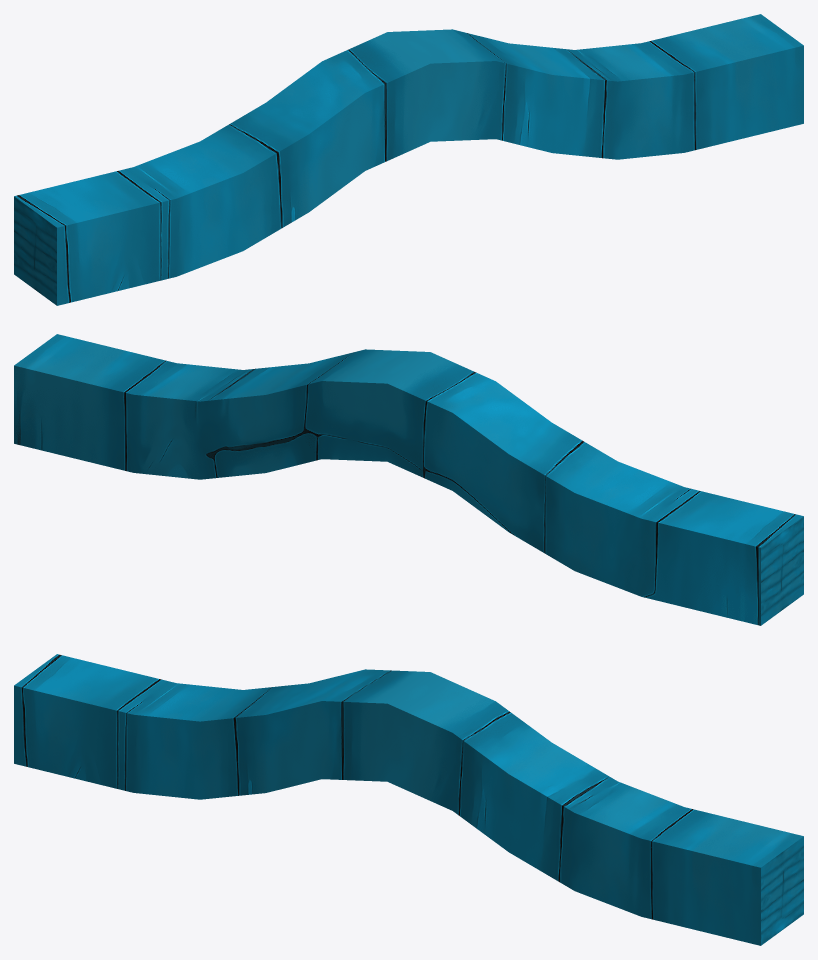
File: M_Tile_Wall_Bump.fbx
The picture shows the model from 3 angles, top to bottom: view 1: azimuth 30°, elevation 25°; view 2: azimuth 150°, elevation 25°; view 3: azimuth 330°, elevation 25°; orthographic projection.
Parts seen in each view (by area): view 1: Tile_Wall.002; view 2: Tile_Wall.002; view 3: Tile_Wall.002.
Boxes of the visible parts, box(x1,y1,x2,y2) form: Tile_Wall.002: box(14, 14, 803, 305); Tile_Wall.002: box(14, 334, 803, 625); Tile_Wall.002: box(14, 654, 803, 945).
Bounding box in the file's own units: 100 × 19.35 × 10.
